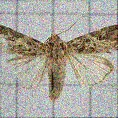Spodoptera litura: (0, 15, 118, 102)
